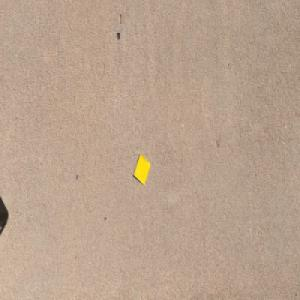PlasticPart: (132, 153, 150, 186)
